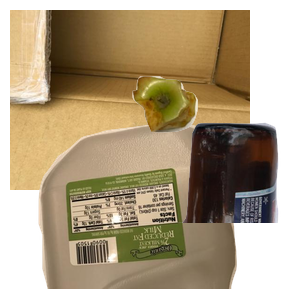cardboard: (10, 10, 250, 190)
glass: (87, 120, 300, 300)
plastic: (36, 120, 265, 300)
trash: (130, 74, 300, 199)
